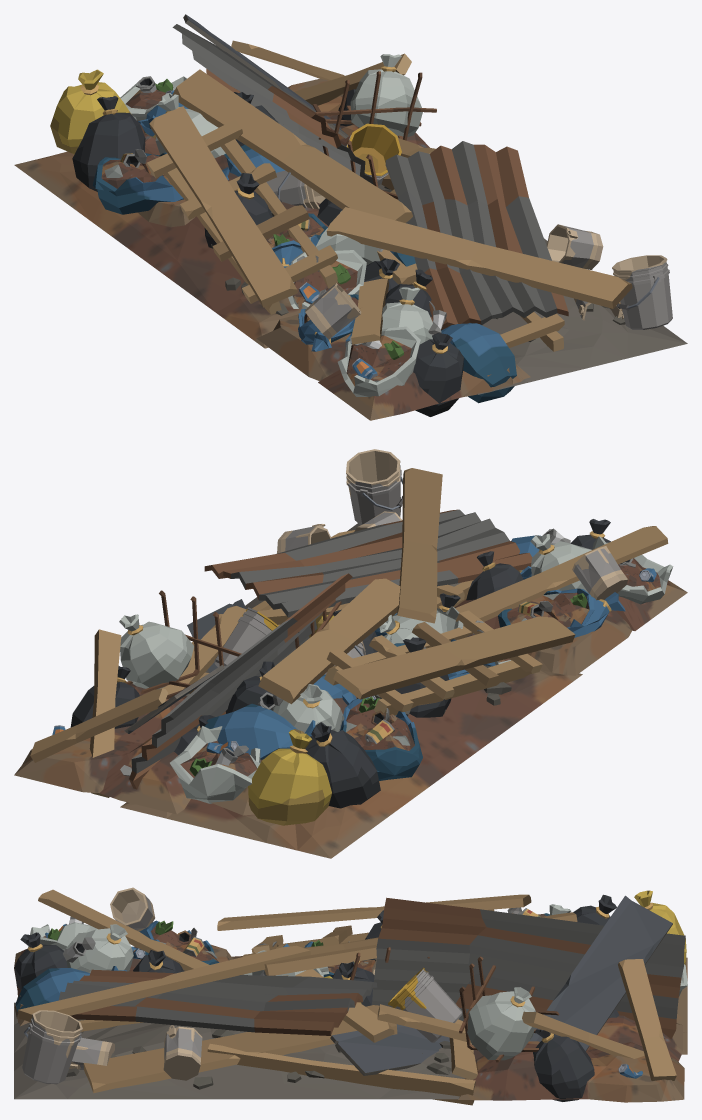
The model's file is SM_Prop_Skip_Large_03_Insert_01.fbx.
The picture shows the model from 3 angles, top to bottom: view 1: azimuth 30°, elevation 25°; view 2: azimuth 150°, elevation 25°; view 3: azimuth 270°, elevation 25°; orthographic projection. The views are drawn at different scales.
Visible parts, largest first — view 1: SM_Prop_Skip_Large_03_Insert_01; view 2: SM_Prop_Skip_Large_03_Insert_01; view 3: SM_Prop_Skip_Large_03_Insert_01.
Boxes of the visible parts, left/top/right/bottom form: SM_Prop_Skip_Large_03_Insert_01: left=14, top=14, right=687, bottom=420; SM_Prop_Skip_Large_03_Insert_01: left=14, top=449, right=687, bottom=858; SM_Prop_Skip_Large_03_Insert_01: left=14, top=887, right=687, bottom=1105.
Bounding box in the file's own units: 304 × 142 × 575.
